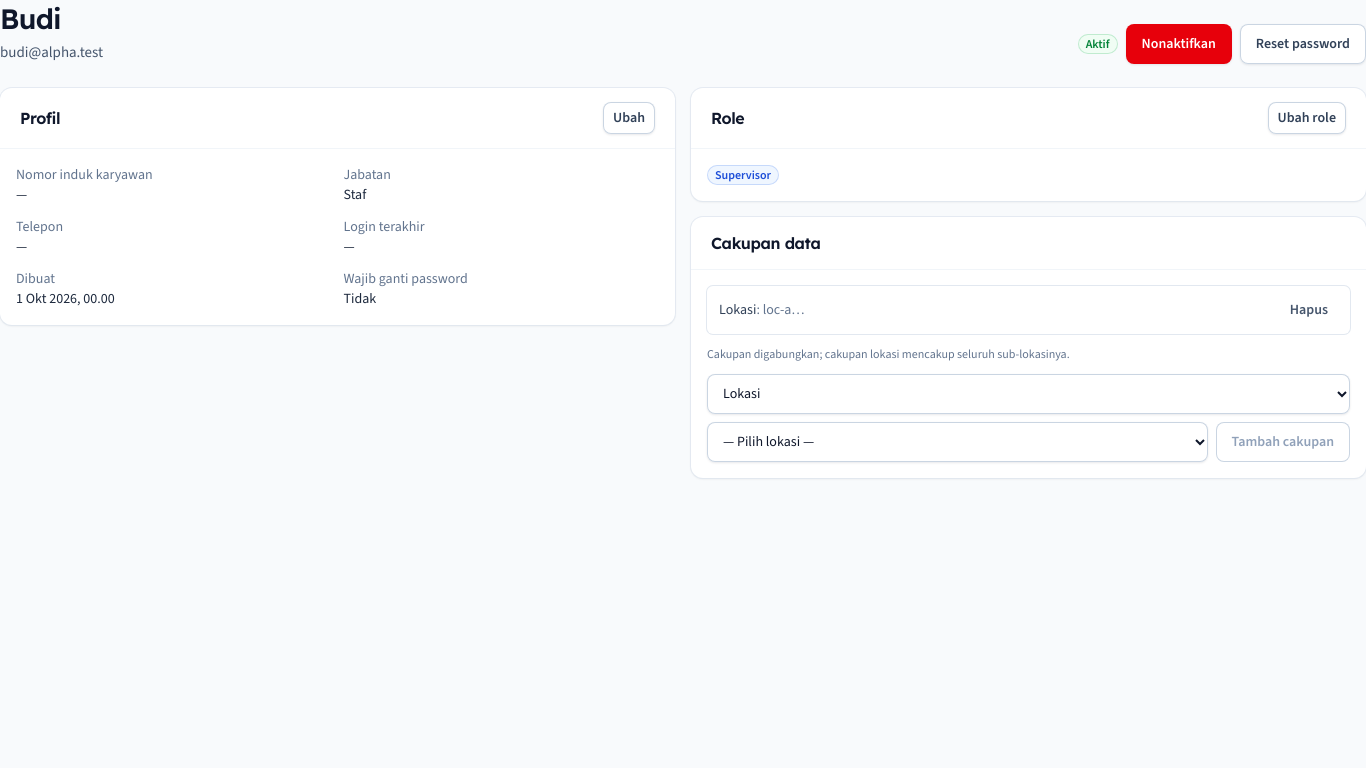
Test: UserDetailPage: rejected access changes › keeps the confirmation open with the error when deactivating a broader member is refused
Step 1. Click the button "Nonaktifkan" → point(1179, 44), box [1126,24,1232,64]
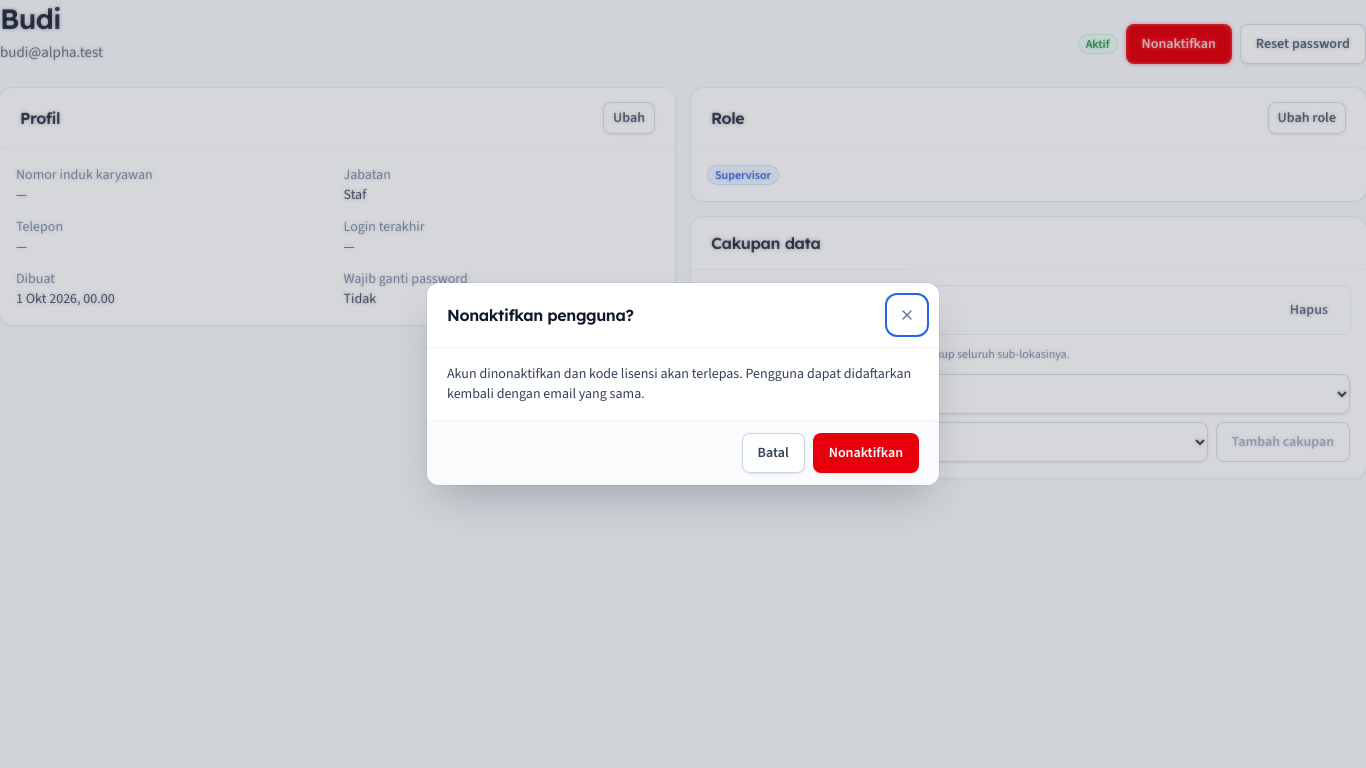
Step 2. Click the button "Nonaktifkan" below "Nonaktifkan pengguna?" → point(866, 453), box [813,433,919,473]
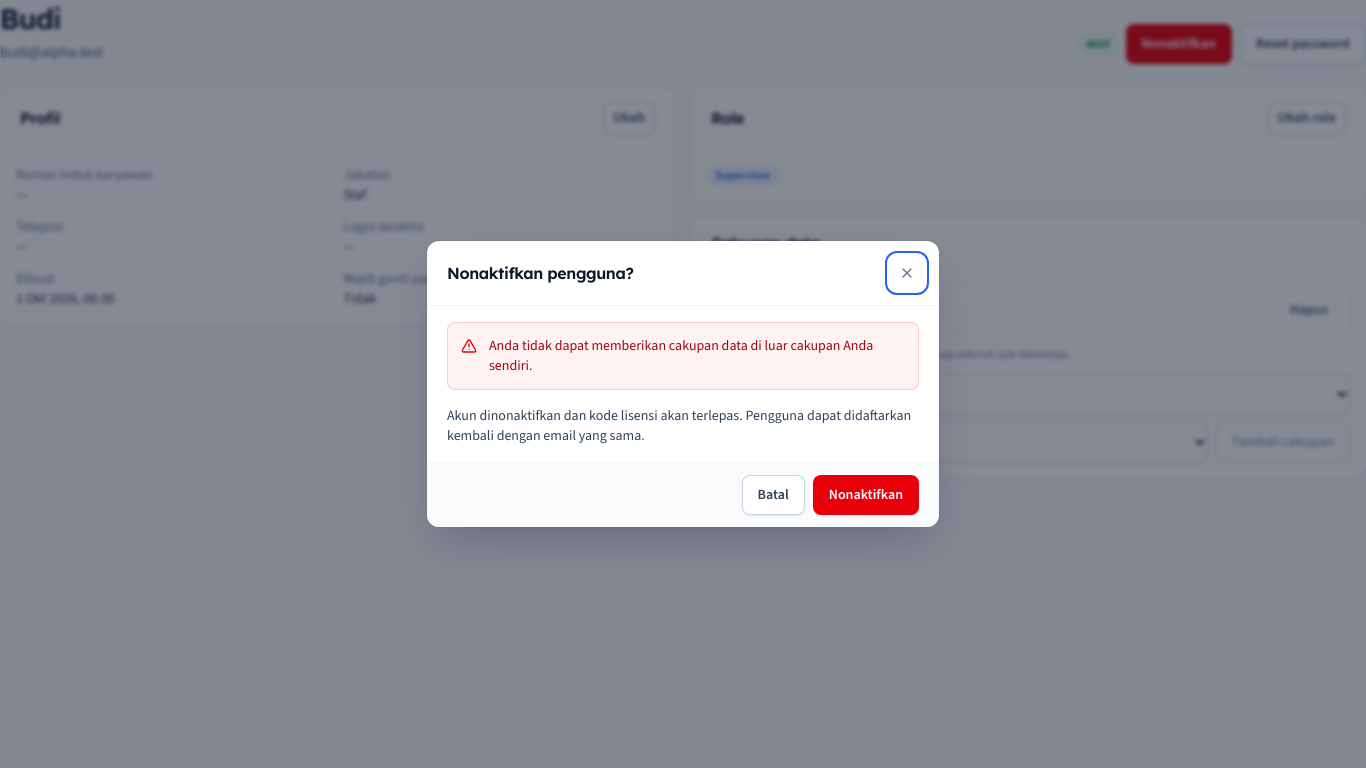
Check: the text "kode lisensi akan terlepas" is shown, box [447,406,911,445]
Check: the text "Anda tidak dapat memberikan cakupan data di luar cakupan Anda sendiri." is shown, box [489,336,905,376]
